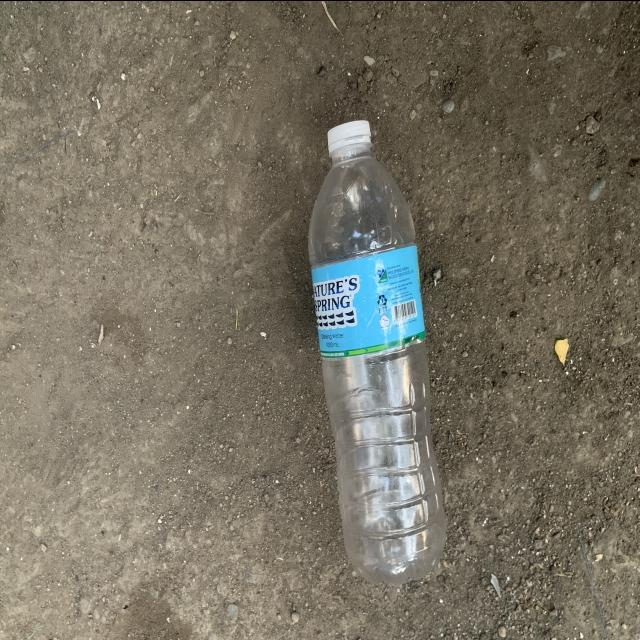Bottle: (309, 120, 445, 584)
